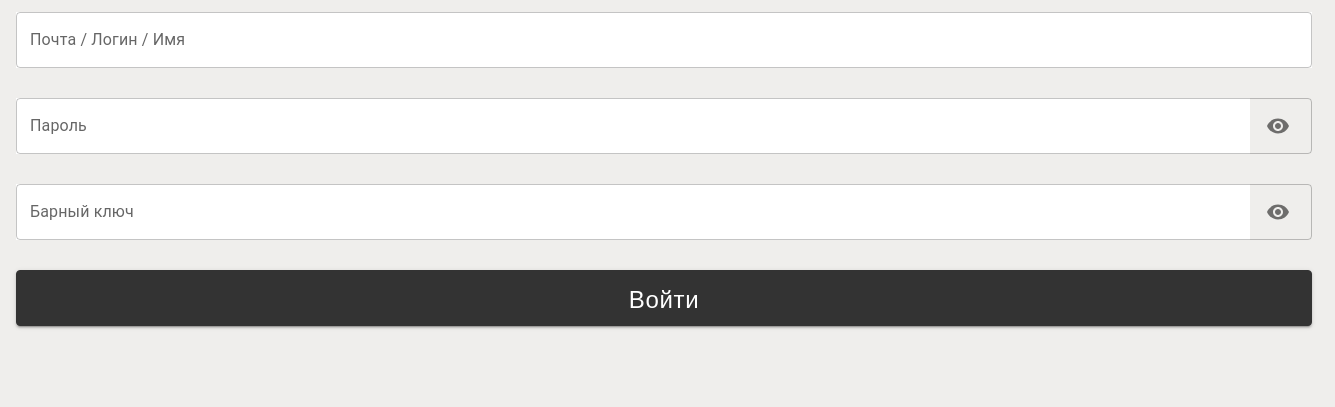
Test case: BarmanAuthForm › показывает ошибку при неверных учетных данных
Type "user" into the field labelled "Почта / Логин / Имя" at (664, 40), box [16, 12, 1312, 68]
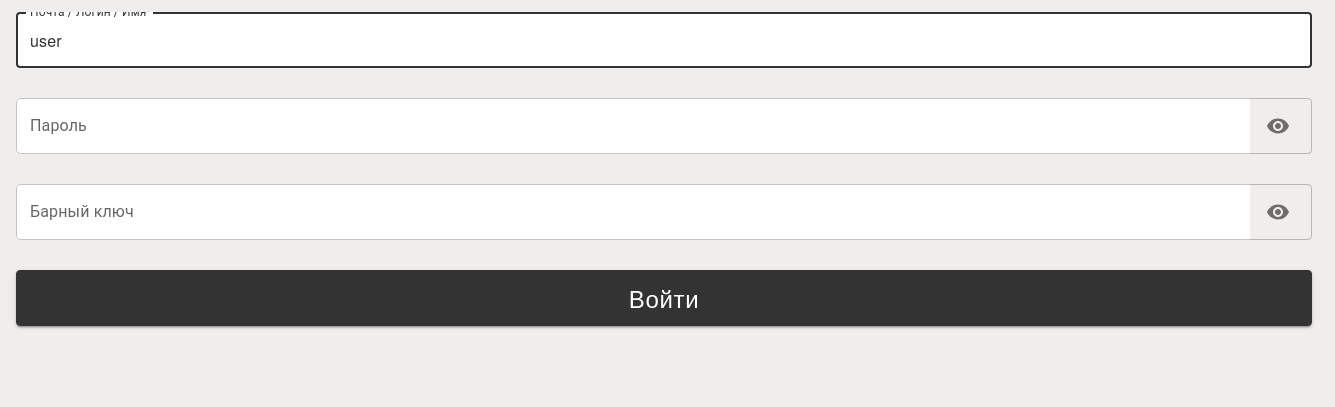
Type "wrongpass" into the password field labelled "Пароль" at (633, 126), box [16, 98, 1250, 154]
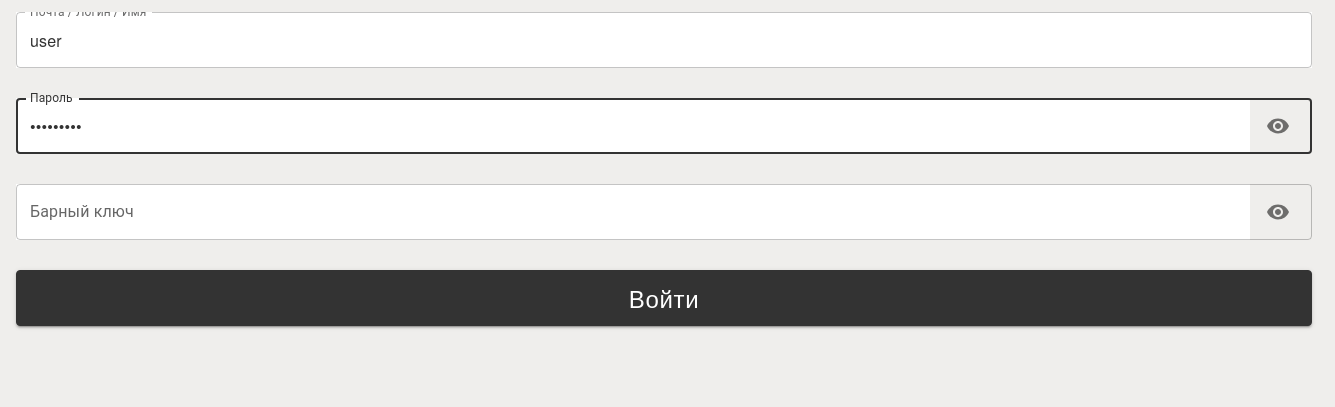
Type "key" into the password field labelled "Барный ключ" at (633, 212), box [16, 184, 1250, 240]
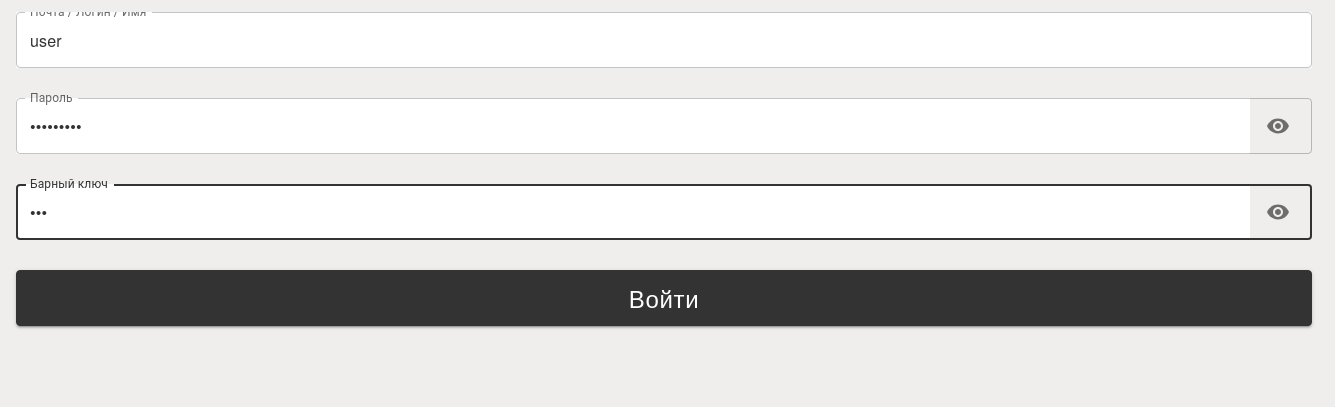
Click the button "Войти" at (664, 298), box [16, 270, 1312, 326]
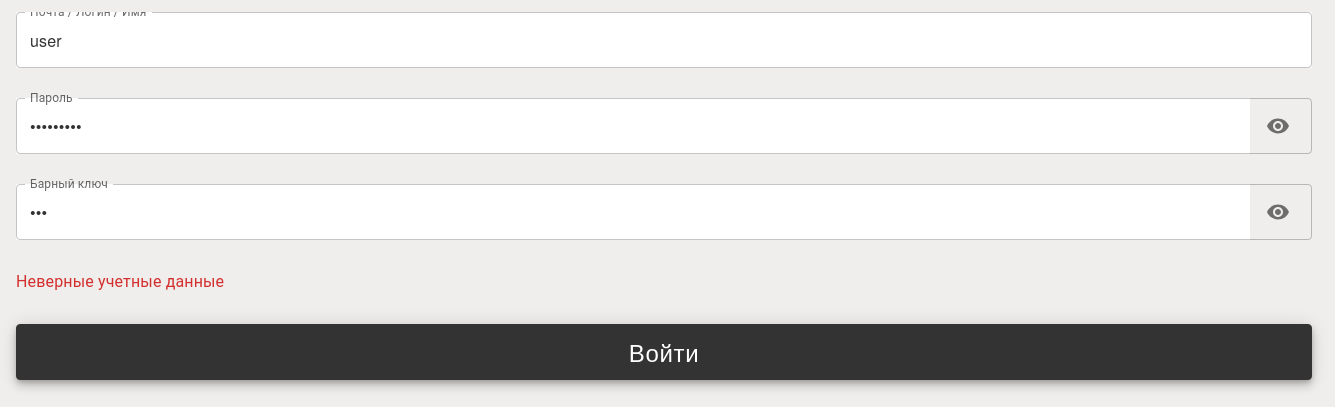
Expected: the text "Неверные учетные данные" is shown, [16, 272, 224, 291]
